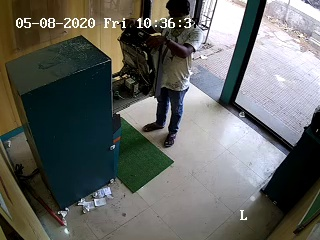open: (138, 2, 278, 123)
